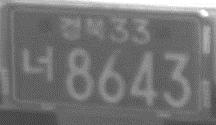3: (162, 52, 192, 108), (130, 17, 152, 45), (109, 16, 128, 43)
4: (130, 51, 159, 105)
6: (97, 48, 128, 103)
8: (64, 47, 94, 101)
경북_O: (58, 16, 104, 42)
너: (22, 45, 55, 82)
